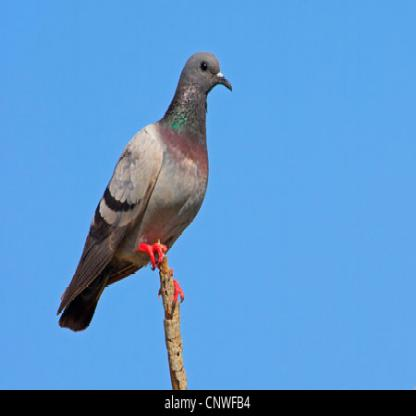Flying Rat: (34, 48, 235, 326)
